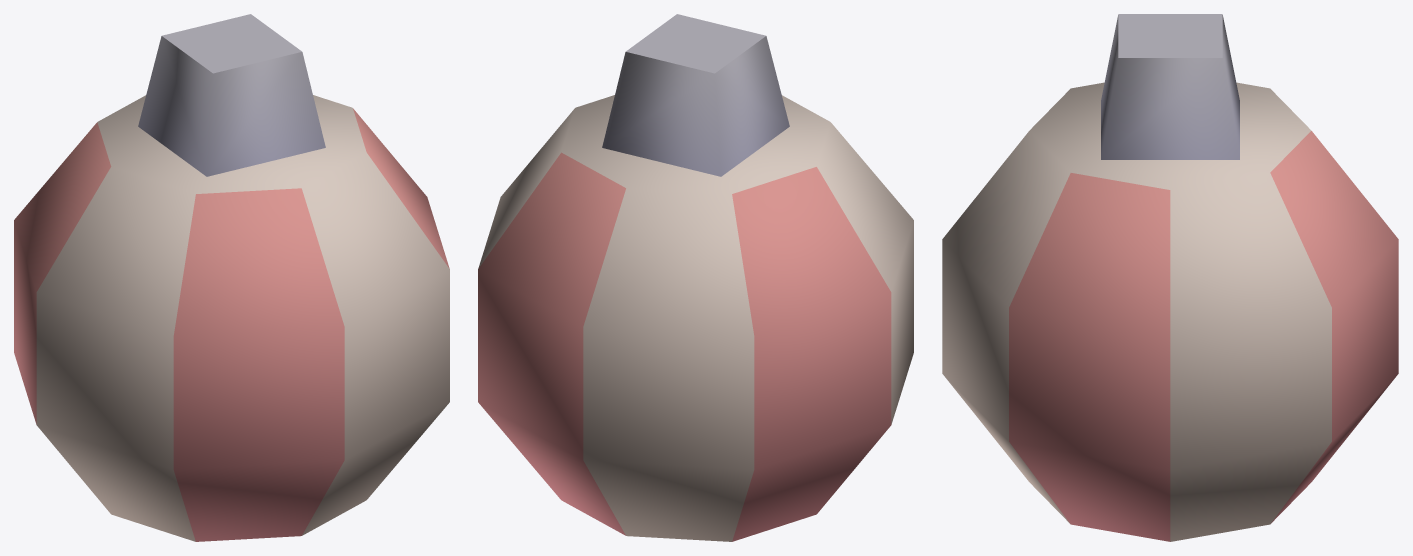
The model's file is christmas-ornament-stripes-vertical.glb.
3 views of the same model, side by side, from view 1: azimuth 30°, elevation 25°; view 2: azimuth 150°, elevation 25°; view 3: azimuth 270°, elevation 25° (orthographic).
Visible parts, largest first — view 1: christmas-ornament-stripes-vertical; view 2: christmas-ornament-stripes-vertical; view 3: christmas-ornament-stripes-vertical.
Part boxes in pixels (x1,y1,x2,y2): christmas-ornament-stripes-vertical: (14, 14, 449, 541); christmas-ornament-stripes-vertical: (478, 14, 913, 541); christmas-ornament-stripes-vertical: (942, 14, 1398, 541).
Bounding box in the file's own units: 0.1312 × 0.1548 × 0.1312.
